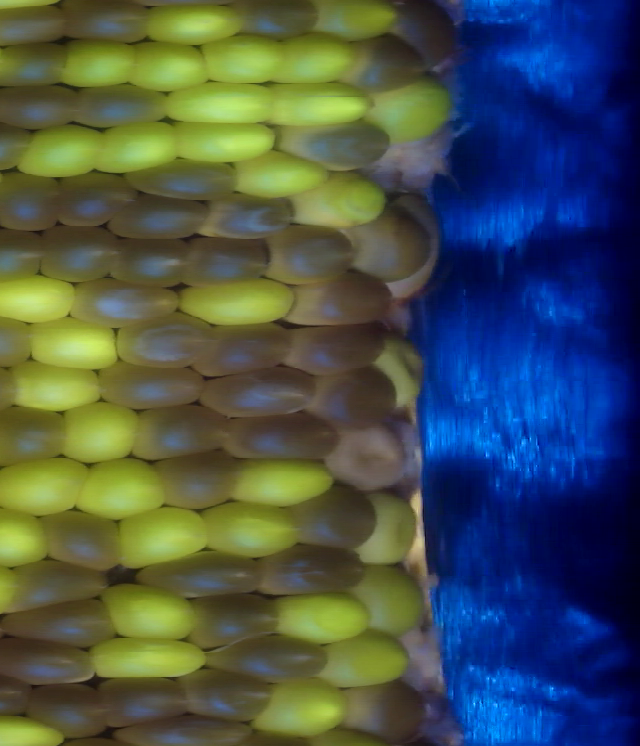fluorescent: (167, 274, 298, 327), (202, 498, 299, 561), (103, 574, 193, 641), (76, 454, 164, 522), (117, 504, 213, 564), (28, 313, 120, 374), (227, 148, 328, 202), (0, 457, 92, 516), (164, 77, 277, 125), (275, 78, 375, 132), (320, 630, 416, 686), (369, 74, 450, 140), (256, 678, 348, 735), (11, 357, 106, 412), (235, 455, 333, 508), (18, 119, 103, 180), (64, 396, 138, 464), (272, 595, 372, 645), (93, 637, 206, 680), (359, 561, 423, 634), (361, 487, 420, 565), (178, 116, 277, 162), (98, 119, 185, 171), (132, 35, 208, 93), (207, 32, 285, 87), (373, 330, 428, 408), (311, 171, 387, 227), (0, 275, 80, 328), (60, 37, 140, 88), (149, 3, 245, 45), (286, 35, 353, 81), (0, 507, 46, 569), (325, 2, 399, 38), (0, 709, 62, 746)
nonfluorescent: (0, 595, 117, 653), (132, 549, 267, 599), (285, 482, 381, 551), (37, 504, 128, 576), (341, 206, 429, 280), (128, 399, 234, 459), (258, 539, 370, 595), (269, 214, 356, 285), (282, 116, 392, 172), (292, 271, 398, 329), (201, 366, 318, 418), (303, 364, 398, 428), (150, 446, 244, 509), (202, 632, 325, 680), (182, 662, 275, 725), (224, 411, 338, 462), (0, 632, 103, 687), (281, 318, 388, 369), (335, 683, 432, 739), (187, 592, 281, 649), (96, 357, 201, 407), (0, 166, 78, 233), (122, 309, 212, 367), (95, 672, 188, 728), (69, 276, 182, 322), (112, 190, 207, 243), (327, 425, 409, 486), (38, 219, 117, 282), (119, 161, 240, 202), (351, 30, 424, 96), (202, 320, 296, 371), (29, 678, 106, 740), (2, 402, 70, 472), (202, 192, 293, 244), (76, 78, 170, 128), (181, 232, 276, 281), (110, 714, 254, 746), (107, 234, 201, 283), (14, 564, 122, 604), (399, 2, 464, 67), (59, 1, 155, 44), (0, 82, 78, 132), (62, 170, 124, 225), (228, 3, 320, 40), (0, 43, 69, 86), (0, 225, 45, 288), (0, 3, 65, 46), (0, 301, 32, 366), (0, 118, 33, 174), (0, 661, 32, 717)
